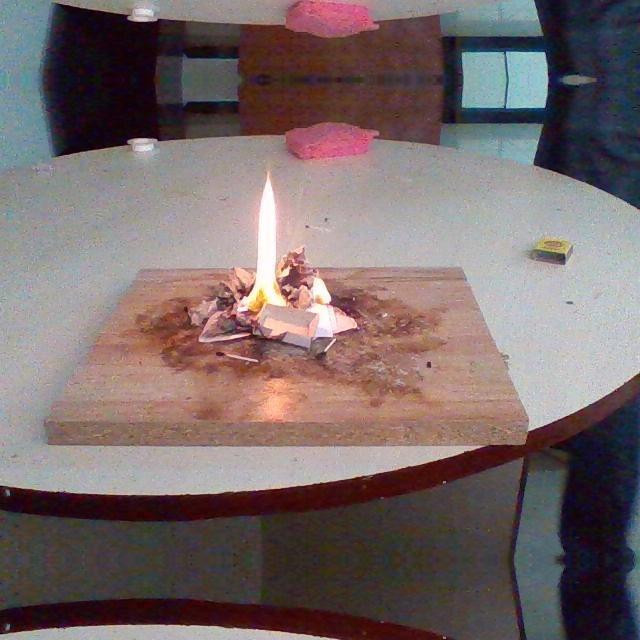smoke: (234, 172, 288, 312), (310, 276, 334, 308)
